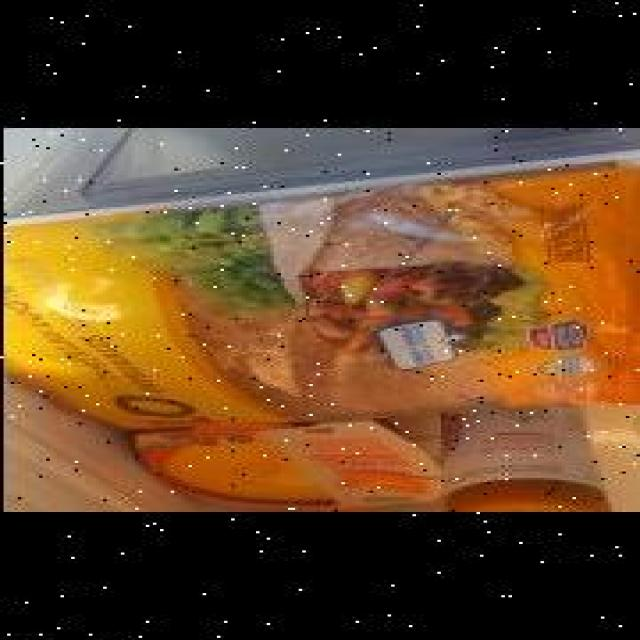tortillas: (0, 163, 636, 429)
